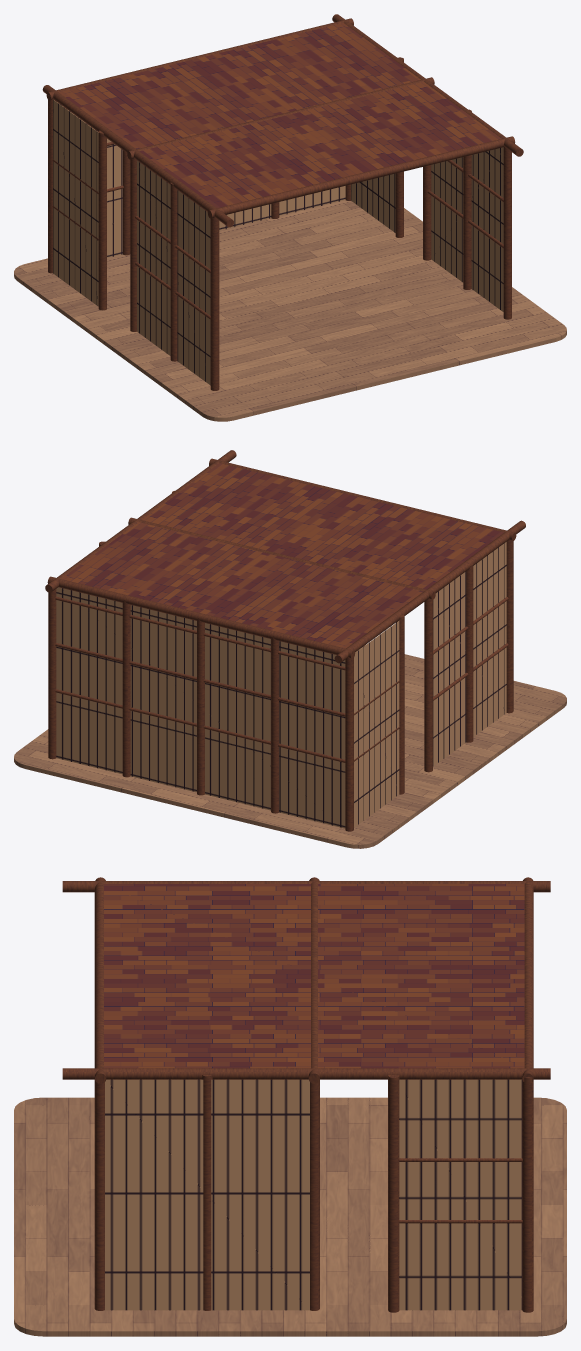
The model's file is Respiracion2.fbx.
3 renders of one model, top to bottom at view 1: azimuth 30°, elevation 25°; view 2: azimuth 150°, elevation 25°; view 3: azimuth 270°, elevation 25°, orthographic. The views are drawn at different scales.
Parts seen in each view (by area): view 1: Piso, Techo, Side walls, Support, Back wall, Beams; view 2: Techo, Back wall, Support, Side walls, Piso, Beams; view 3: Techo, Side walls, Piso, Support, Beams.
Part boxes in pixels (x1,y1,x2,y2): Piso: (14, 200, 566, 421); Techo: (59, 23, 501, 208); Side walls: (53, 99, 503, 385); Support: (42, 14, 523, 390); Back wall: (57, 102, 345, 258); Beams: (52, 107, 503, 319); Techo: (61, 463, 503, 648); Back wall: (56, 587, 345, 828); Support: (45, 450, 525, 831); Side walls: (354, 542, 506, 827); Piso: (14, 645, 566, 848); Beams: (55, 596, 508, 762); Techo: (104, 884, 524, 1068); Side walls: (105, 1079, 522, 1310); Piso: (14, 1097, 566, 1336); Support: (62, 877, 550, 1312); Beams: (399, 1158, 522, 1223).
Bounding box in the file's own units: 1411 × 687 × 1411.
Materials: 4 (4 with a texture image).
